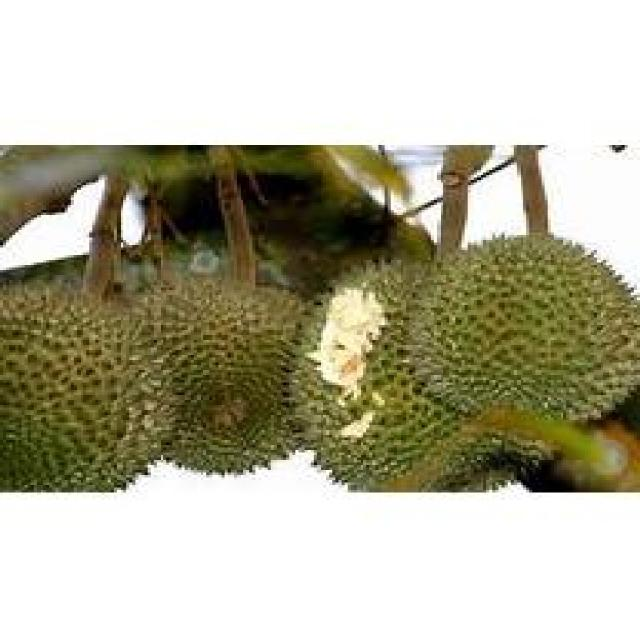fruit: (289, 185, 640, 500), (3, 240, 335, 505)
